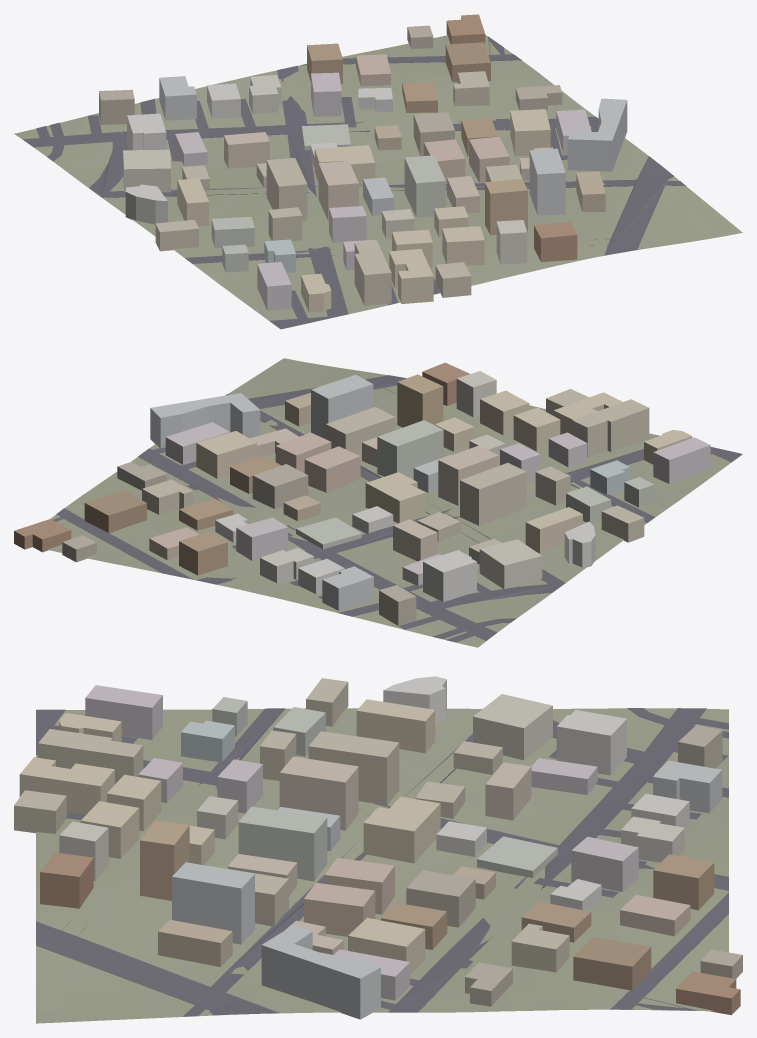
Rendered from chunk_4_2.glb.
3 renders of one model, top to bottom at view 1: azimuth 30°, elevation 25°; view 2: azimuth 150°, elevation 25°; view 3: azimuth 270°, elevation 25°, orthographic. The views are drawn at different scales.
Parts seen in each view (by area): view 1: geometry_61, geometry_0, geometry_63, geometry_5, geometry_9, geometry_68, geometry_40, geometry_44, geometry_30, geometry_29, geometry_36, geometry_53 (+53 smaller); view 2: geometry_61, geometry_0, geometry_30, geometry_40, geometry_9, geometry_5, geometry_36, geometry_41, geometry_43, geometry_29, geometry_18, geometry_57 (+56 smaller); view 3: geometry_61, geometry_0, geometry_5, geometry_9, geometry_63, geometry_53, geometry_30, geometry_43, geometry_36, geometry_41, geometry_44, geometry_40 (+60 smaller).
Boxes of the visible parts, x1,y1,x2,y2 form: geometry_61: (14, 35, 742, 329); geometry_0: (567, 98, 627, 171); geometry_63: (604, 174, 668, 255); geometry_5: (529, 148, 565, 215); geometry_9: (404, 155, 445, 217); geometry_68: (287, 129, 348, 318); geometry_40: (354, 240, 391, 305); geometry_44: (389, 248, 433, 303); geometry_30: (266, 158, 307, 220); geometry_29: (485, 179, 527, 235); geometry_36: (123, 149, 170, 192); geometry_53: (318, 161, 358, 221); geometry_61: (47, 358, 741, 647); geometry_0: (150, 393, 260, 448); geometry_30: (460, 462, 526, 525); geometry_40: (572, 399, 649, 457); geometry_9: (377, 420, 443, 477); geometry_5: (311, 375, 373, 439); geometry_36: (479, 539, 542, 589); geometry_41: (423, 550, 476, 601); geometry_43: (365, 472, 425, 523); geometry_29: (397, 374, 443, 427); geometry_18: (326, 407, 395, 453); geometry_57: (196, 431, 256, 478); geometry_61: (36, 708, 728, 1023); geometry_0: (261, 925, 380, 1019); geometry_5: (172, 862, 254, 944); geometry_9: (238, 806, 327, 881); geometry_63: (36, 921, 237, 1010); geometry_53: (279, 756, 358, 830); geometry_30: (308, 731, 399, 805); geometry_43: (363, 796, 440, 863); geometry_36: (473, 694, 552, 760); geometry_41: (556, 710, 626, 775); geometry_44: (19, 757, 114, 814); geometry_40: (38, 729, 143, 783).
Bounding box in the file's own units: 261 × 28.82 × 263.
